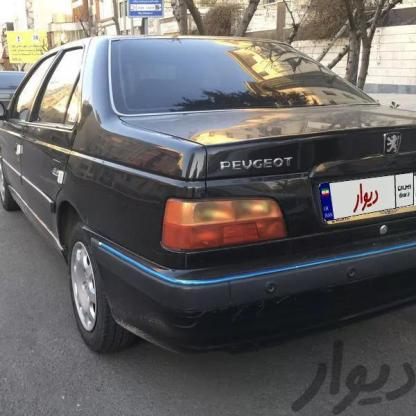Car: (0, 28, 416, 364)
